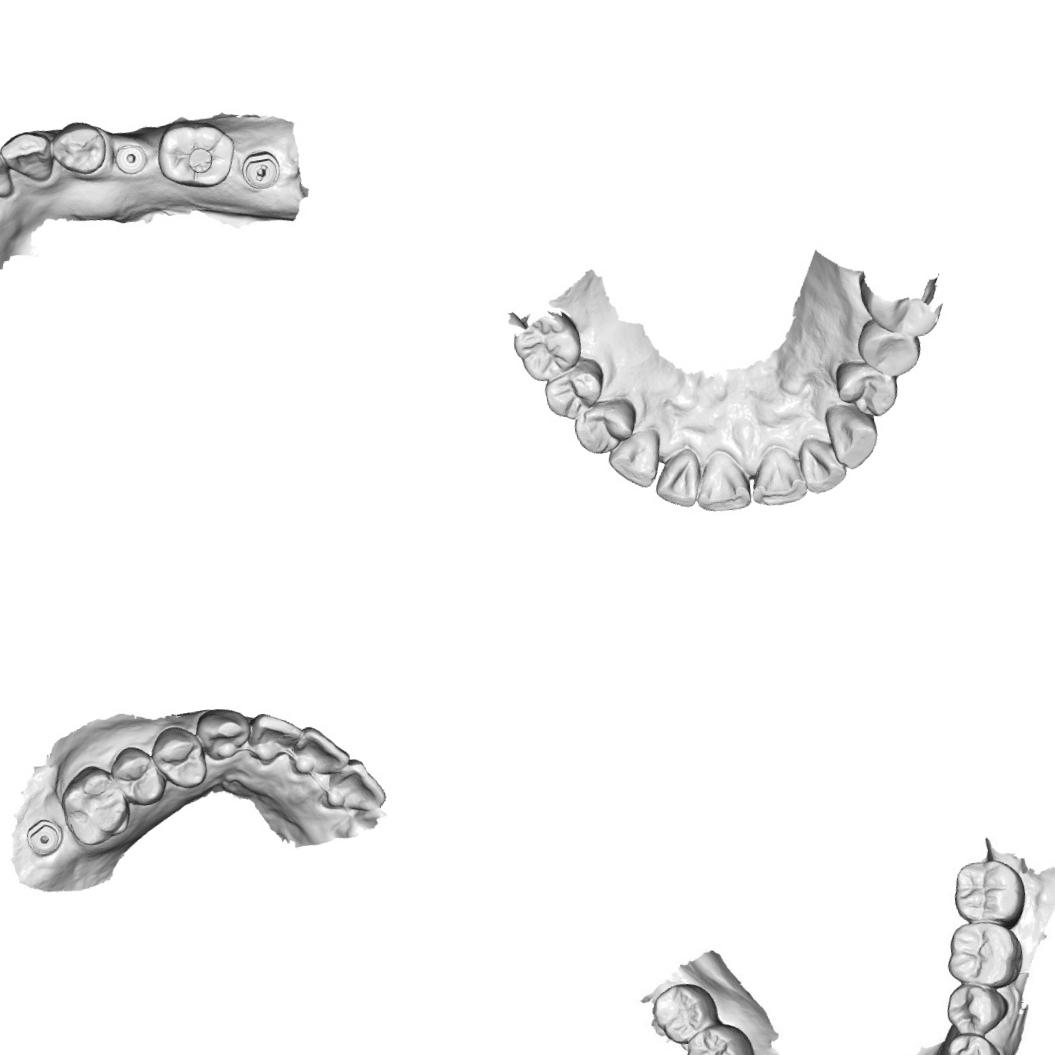canine: (823, 398, 883, 473), (604, 424, 667, 492), (192, 702, 256, 764), (0, 126, 60, 192)
implant: (22, 814, 66, 860), (112, 136, 154, 179)
implant_minus: (239, 145, 282, 194)
incisor: (312, 754, 388, 820), (688, 446, 754, 516), (744, 440, 810, 510), (284, 718, 354, 782), (649, 446, 706, 513), (246, 706, 308, 766), (794, 432, 850, 497), (0, 146, 16, 205)
molar: (53, 759, 136, 851), (151, 116, 243, 196), (504, 302, 586, 387), (943, 916, 1028, 995), (948, 853, 1030, 930), (648, 974, 724, 1047), (679, 1018, 764, 1055)
premolar: (851, 311, 925, 382), (144, 720, 210, 795), (832, 353, 903, 422), (540, 356, 610, 424), (940, 978, 1016, 1040), (570, 394, 642, 456), (105, 741, 168, 810), (47, 117, 114, 181), (943, 1027, 1008, 1055)
